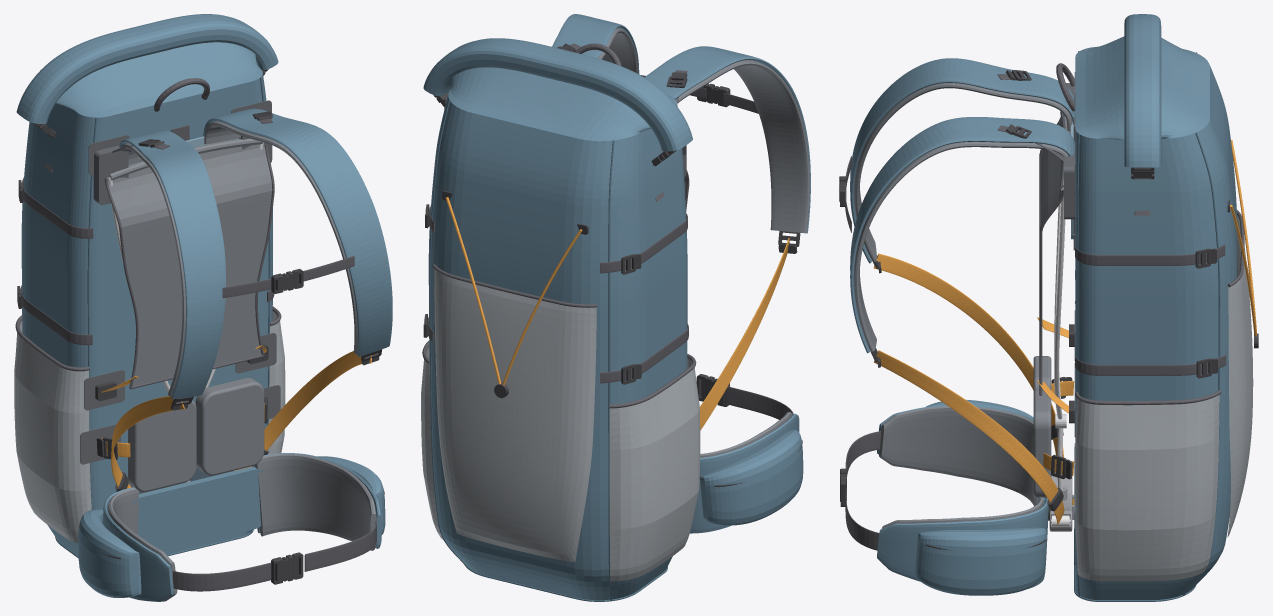
Rendered from BP40-A1_preview.glb.
The picture shows the model from 3 angles, left to right: view 1: azimuth 30°, elevation 25°; view 2: azimuth 150°, elevation 25°; view 3: azimuth 270°, elevation 25°; orthographic projection. The views are drawn at different scales.
Visible parts, largest first — view 1: body, strap_outer, mesh, side_pockets, lumbar, wing_inner, roll, collar, belt_centre, patches, belt_pockets, linkage_web (+11 smaller); view 2: body, front_pocket, side_pockets, roll, collar, strap_inner, belt_pockets, strap_outer, seams, linkage_web, wing_outer, side_comp (+8 smaller); view 3: body, side_pockets, strap_outer, wing_inner, collar, belt_pockets, linkage_web, roll, front_pocket, strap_inner, wing_outer, side_comp (+14 smaller).
Part boxes in pixels (bbox=[...]): body: bbox=[21, 72, 272, 556]; strap_outer: bbox=[119, 108, 392, 399]; mesh: bbox=[107, 138, 272, 386]; side_pockets: bbox=[14, 311, 285, 542]; lumbar: bbox=[128, 377, 264, 492]; wing_inner: bbox=[108, 453, 376, 601]; roll: bbox=[16, 14, 278, 123]; collar: bbox=[56, 42, 262, 117]; belt_centre: bbox=[133, 466, 263, 551]; patches: bbox=[80, 100, 280, 464]; belt_pockets: bbox=[78, 456, 385, 597]; linkage_web: bbox=[111, 351, 371, 488]; body: bbox=[428, 95, 687, 600]; front_pocket: bbox=[434, 269, 596, 562]; side_pockets: bbox=[421, 346, 700, 581]; roll: bbox=[423, 38, 692, 151]; collar: bbox=[448, 67, 676, 141]; strap_inner: bbox=[598, 28, 809, 233]; belt_pockets: bbox=[699, 428, 803, 525]; strap_outer: bbox=[552, 14, 810, 233]; seams: bbox=[429, 98, 675, 601]; linkage_web: bbox=[700, 237, 789, 430]; wing_outer: bbox=[689, 413, 799, 533]; side_comp: bbox=[427, 206, 688, 383]; body: bbox=[1075, 65, 1236, 599]; side_pockets: bbox=[1075, 394, 1219, 581]; strap_outer: bbox=[850, 58, 1075, 353]; wing_inner: bbox=[879, 406, 1043, 528]; collar: bbox=[1075, 36, 1209, 140]; belt_pockets: bbox=[915, 399, 1046, 595]; linkage_web: bbox=[873, 253, 1064, 524]; roll: bbox=[1124, 14, 1161, 167]; front_pocket: bbox=[1227, 215, 1253, 537]; strap_inner: bbox=[854, 83, 1072, 351]; wing_outer: bbox=[877, 405, 1048, 588]; side_comp: bbox=[1075, 244, 1226, 375].
Size of the model in its own units: 0.4161 by 0.714 by 0.5206.
